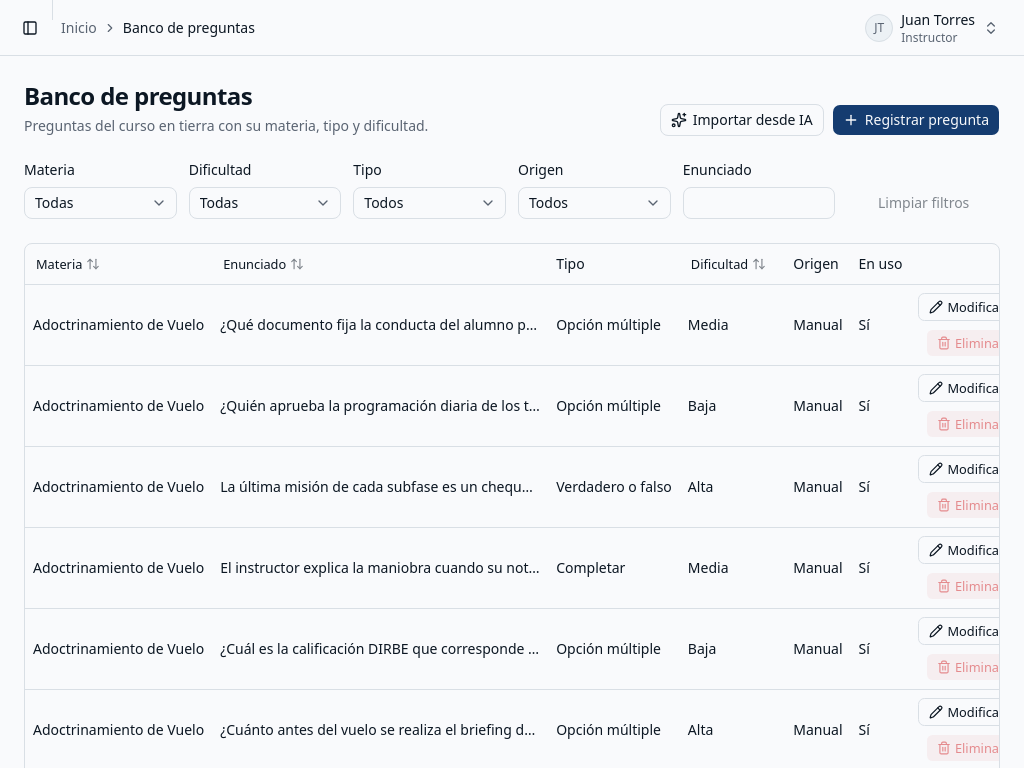
Test: Registrar y modificar pregunta › CA-BAN-04 pide materia, enunciado de 10 a 500, dificultad, tipo y alternativas
Click the button "Registrar pregunta" at (916, 120), box [832,104,1000,136]
(page scrolled)
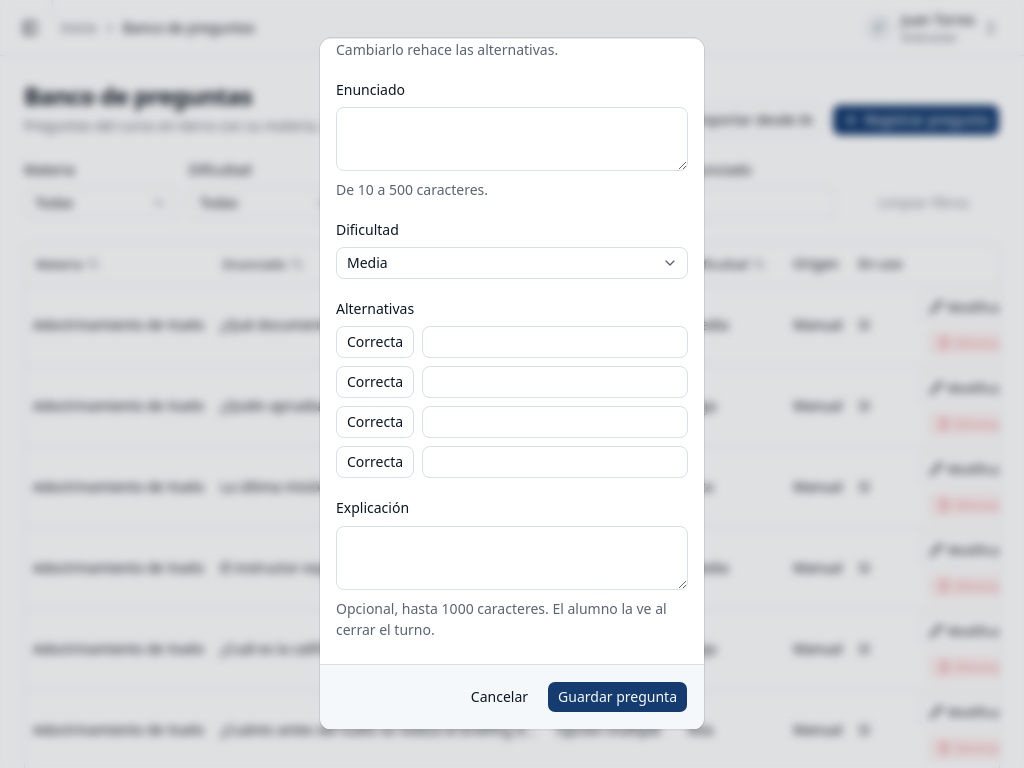
Click the button "Guardar pregunta" at (618, 697), box [547,681,688,713]
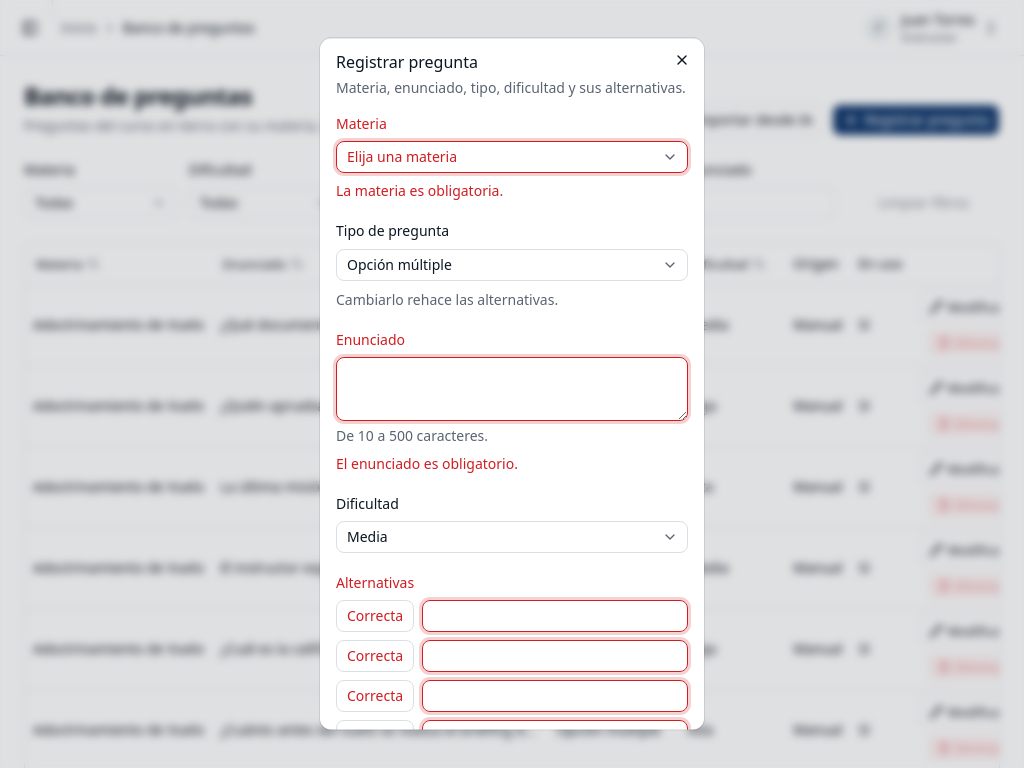
Expected: the text "La materia es obligatoria." is shown, [336,182,503,201]
Expected: the text "El enunciado es obligatorio." is shown, [336,454,518,473]
Type "corto" into the text box labelled "Enunciado" at (512, 389), box [336,357,688,421]
(page scrolled)
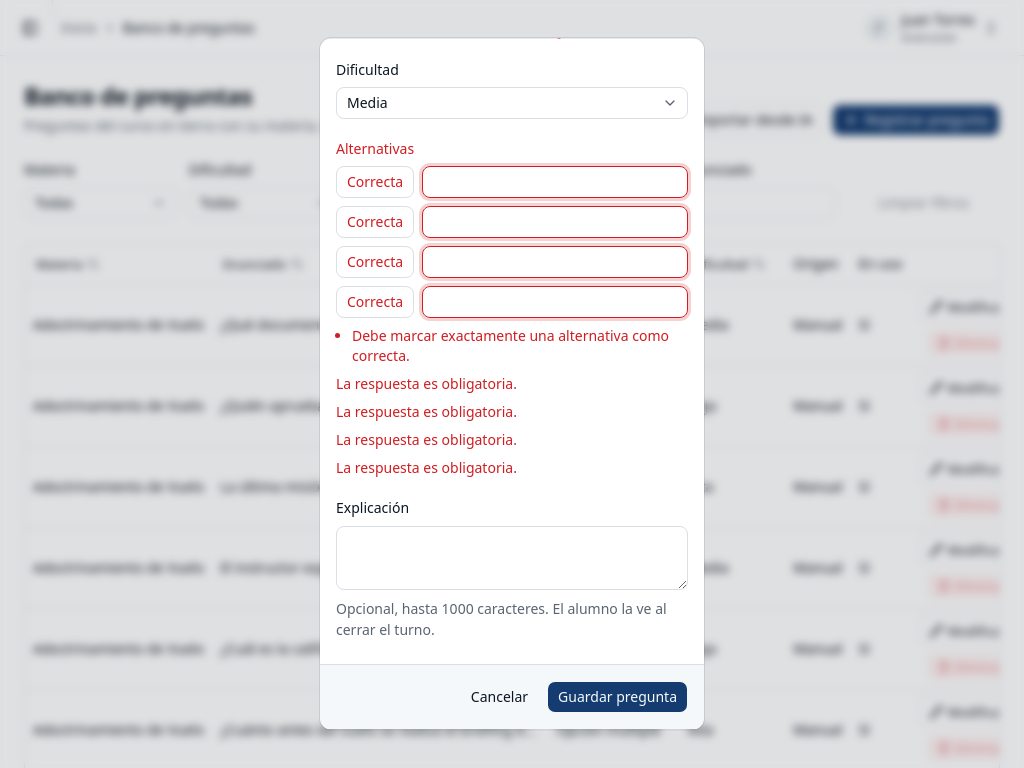
Click the button "Guardar pregunta" at (618, 697), box [547,681,688,713]
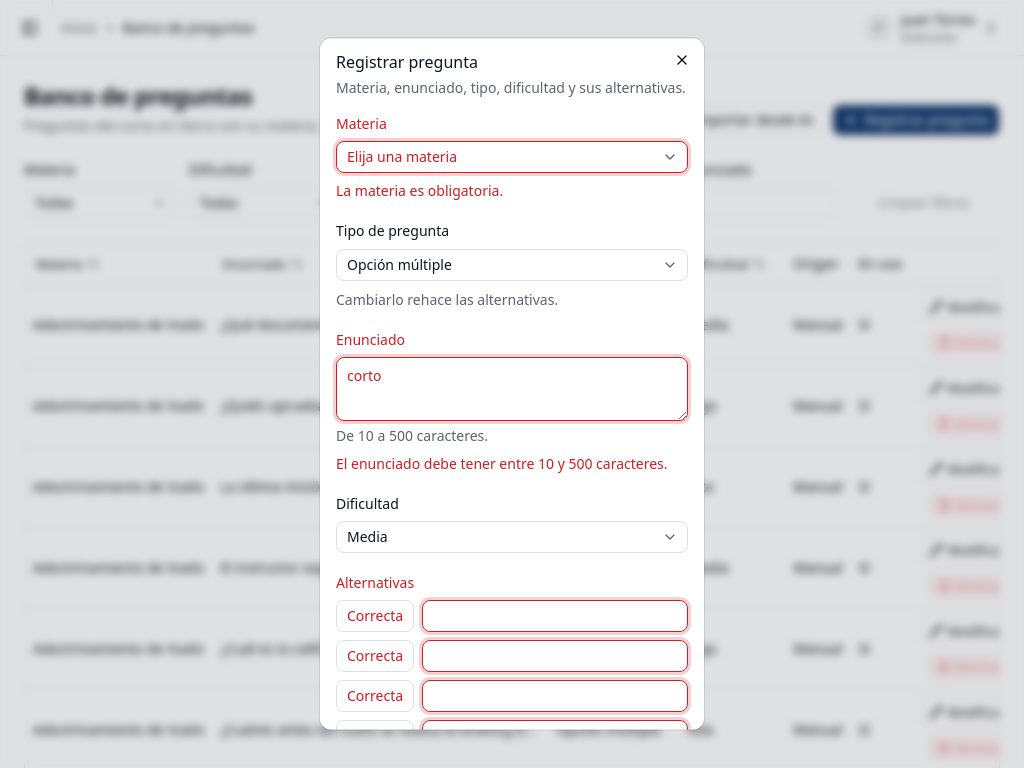
Expected: the text "El enunciado debe tener entre 10 y 500 caracteres." is shown, [336,454,688,474]
